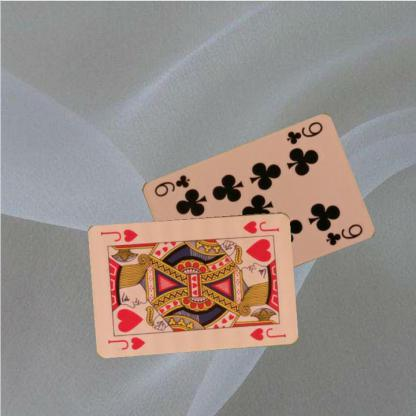9c: (283, 119, 324, 146)
Jh: (106, 334, 146, 351), (241, 218, 281, 234)
